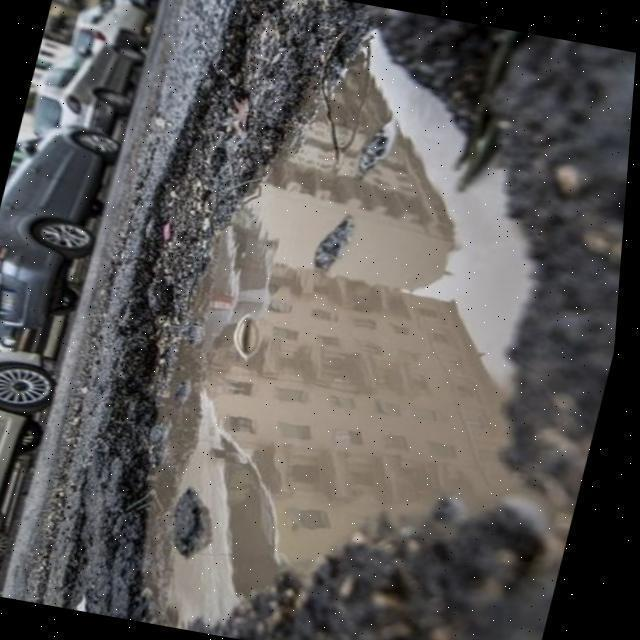Pothole: (87, 0, 640, 640)
